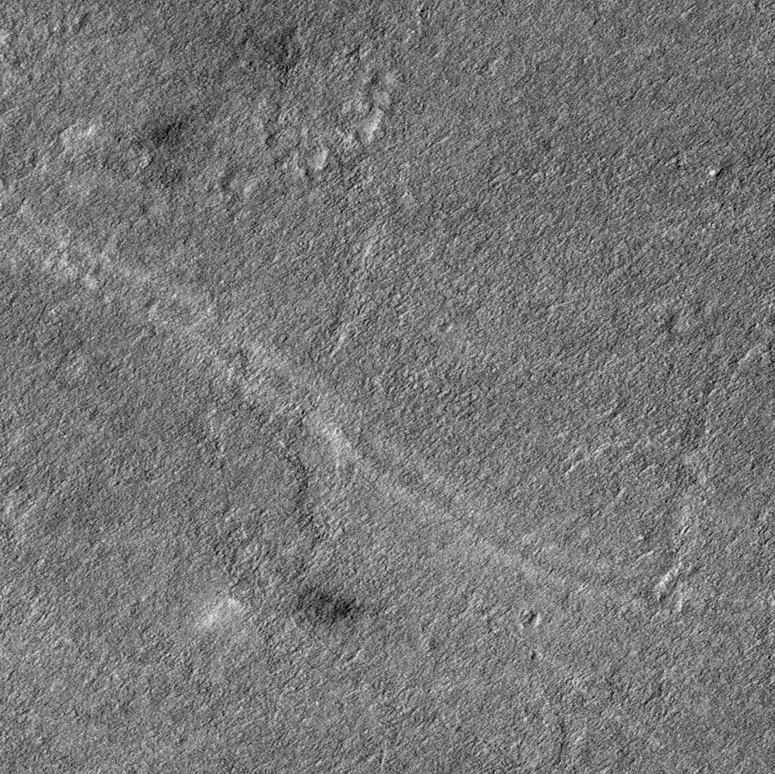dust_devil: (195, 580, 360, 641)
